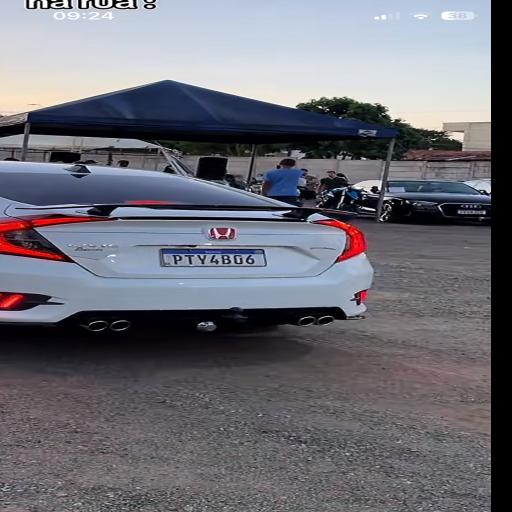detec-o-placas: (83, 225, 347, 296)
